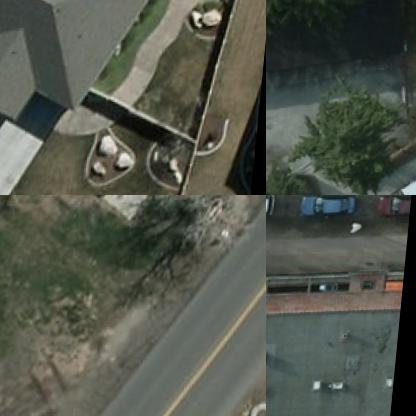car: (300, 195, 360, 221), (400, 167, 415, 194)
